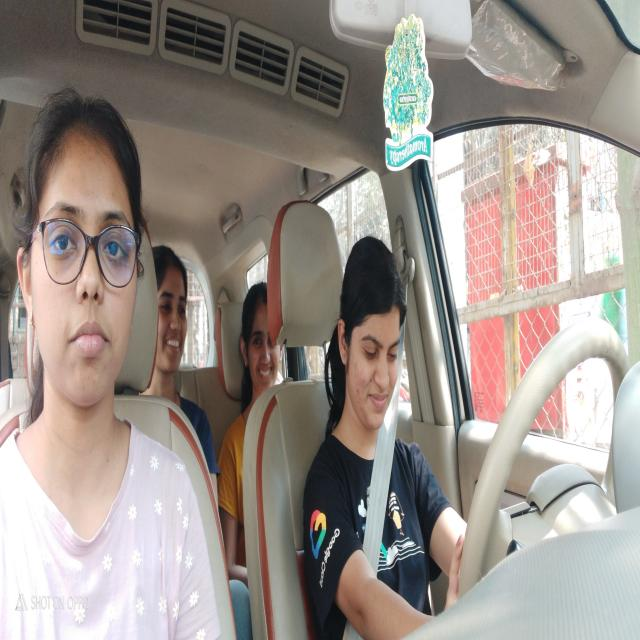drowsy: (339, 237, 404, 428)
person: (18, 100, 140, 403), (155, 238, 191, 364), (242, 274, 279, 385)
